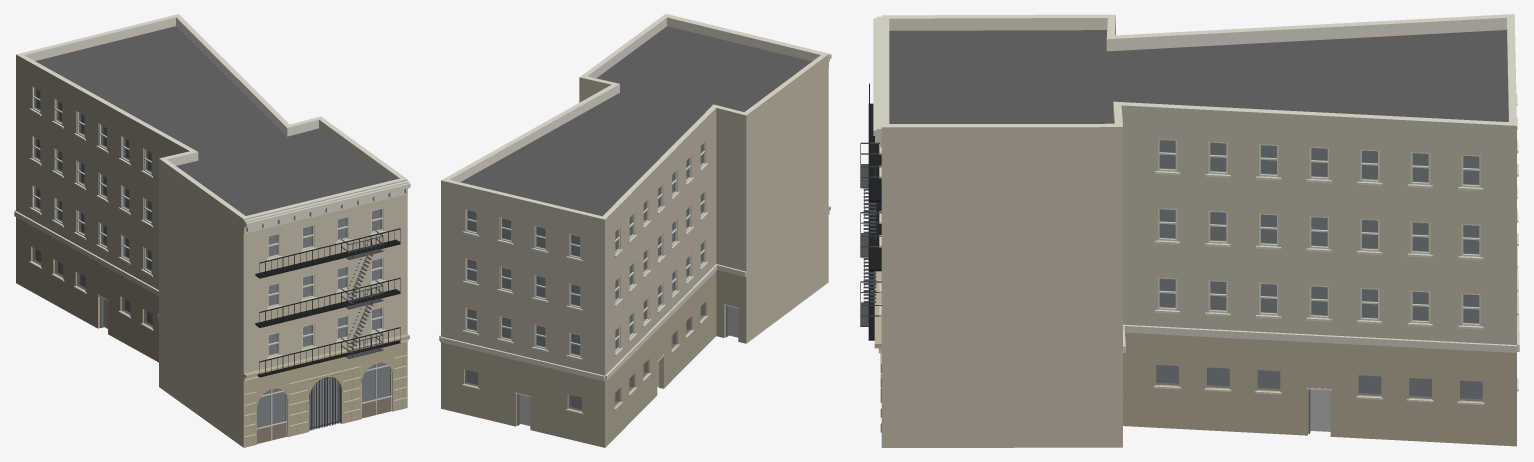
Rendered from exterior.glb.
3 renders of one model, left to right at view 1: azimuth 30°, elevation 25°; view 2: azimuth 150°, elevation 25°; view 3: azimuth 270°, elevation 25°, orthographic. The views are drawn at different scales.
Parts seen in each view (by area): view 1: shell, roof, glazing, shadow-proxy, trim, hand-ornament, frames, storefront, fire-escape, hyD-rubble-0, hyC-arches-0; view 2: shell, roof, glazing, trim, frames, shadow-proxy; view 3: shell, roof, glazing, shadow-proxy, trim, frames, hand-ornament, fire-escape.
Part boxes in pixels (box(x1,y1,x2,y2)): shell: box(16, 14, 407, 447); roof: box(35, 26, 390, 215); glazing: box(32, 88, 390, 428); shadow-proxy: box(36, 89, 389, 427); trim: box(14, 108, 410, 380); hand-ornament: box(243, 228, 409, 378); frames: box(32, 86, 383, 357); storefront: box(97, 294, 392, 443); fire-escape: box(341, 230, 383, 358); hyD-rubble-0: box(244, 353, 406, 444); hyC-arches-0: box(257, 359, 392, 407); shell: box(441, 14, 828, 447); roof: box(460, 26, 811, 216); glazing: box(465, 143, 704, 411); trim: box(439, 14, 831, 414); frames: box(465, 141, 705, 357); shadow-proxy: box(467, 210, 738, 425); shell: box(881, 14, 1516, 447); roof: box(889, 30, 1508, 123); glazing: box(1156, 140, 1482, 401); shadow-proxy: box(1157, 140, 1482, 431); trim: box(873, 16, 1519, 405); frames: box(1158, 139, 1480, 326); hand-ornament: box(868, 83, 881, 348); fire-escape: box(860, 142, 881, 326).
Size of the model in its own units: 11.72 by 15.28 by 28.49.
